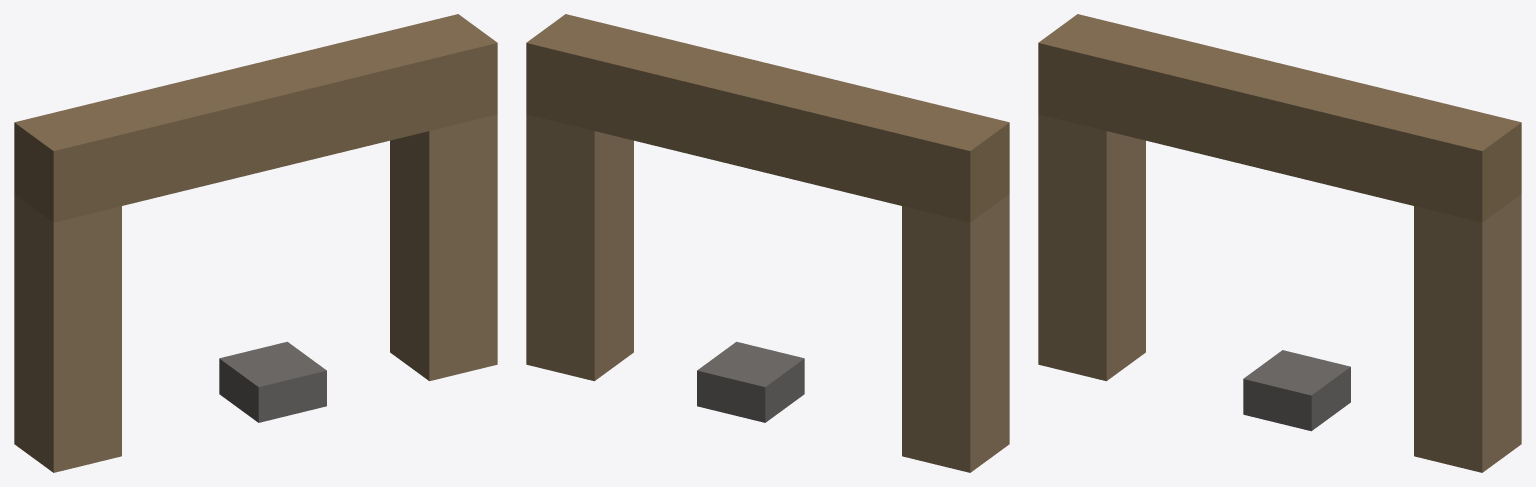
File: arnes_cuero_01.glb
The picture shows the model from 3 angles, left to right: view 1: azimuth 30°, elevation 25°; view 2: azimuth 150°, elevation 25°; view 3: azimuth 330°, elevation 25°; orthographic projection.
Visible parts, largest first — view 1: arnes_cuero; view 2: arnes_cuero; view 3: arnes_cuero.
Part boxes in pixels (left/top/right/bottom): arnes_cuero: left=14, top=14, right=497, bottom=472; arnes_cuero: left=526, top=14, right=1009, bottom=472; arnes_cuero: left=1038, top=14, right=1521, bottom=472.
Bounding box in the file's own units: 1.08 × 0.75 × 0.1667.
